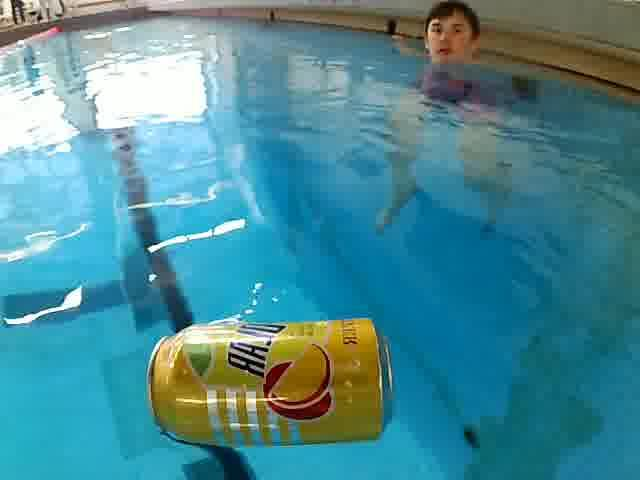Can: (142, 318, 397, 451)
